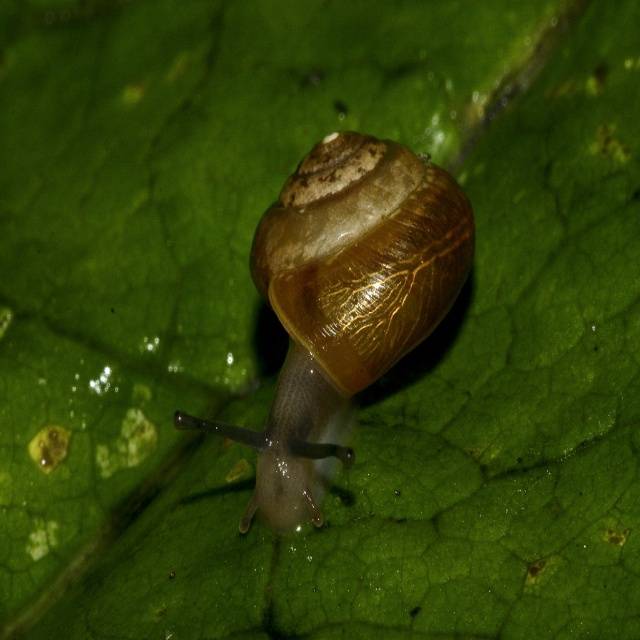Snail: (170, 127, 478, 540)
